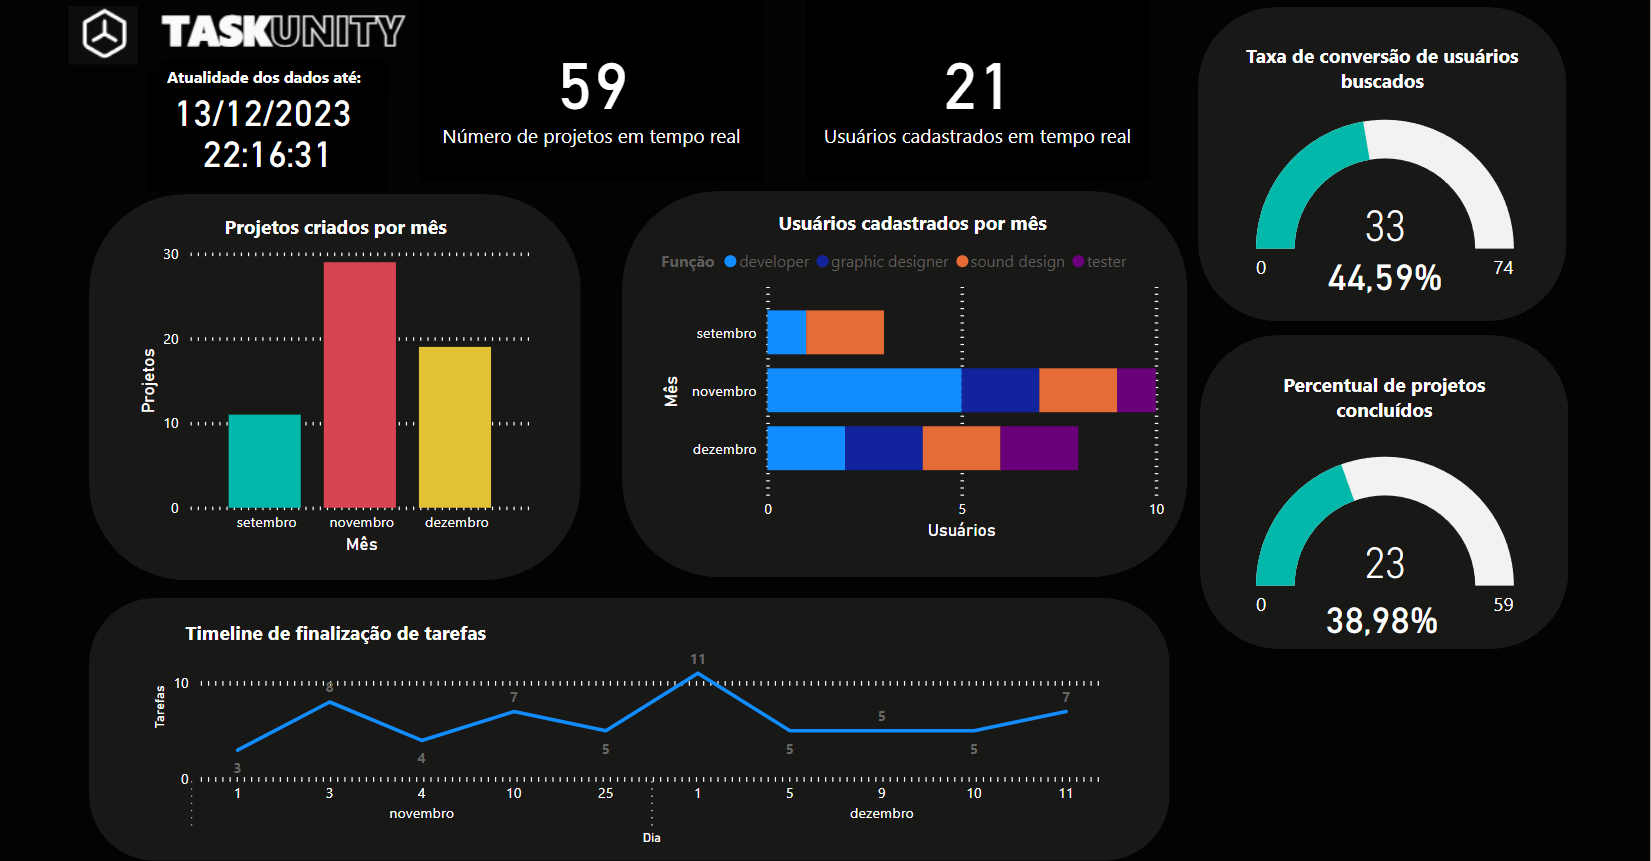

The dashboard page shown, as its layout file describes it:
{"tool":"powerbi","page":{"name":"Página 1","canvas":[1280,720],"ordinal":0},"visuals":[{"type":"shape","box":[952.2,5.8,308.3,262.6],"z":0},{"type":"image","box":[0,0,73.9,59.3],"z":1000},{"type":"image","box":[73.9,0,227.6,50.6],"z":2000},{"type":"gauge","fields":{"Y":["CountNonNull(team users.members_id)"],"MaxValue":["Max(team users.searches)"]},"box":[996,78.8,225.7,181.9],"z":3000},{"type":"textbox","box":[982.4,31.1,248,55.4],"z":4000},{"type":"card","fields":{"Values":["CountNonNull(projects.id)"]},"box":[301.5,0,286.9,150.8],"z":5000},{"type":"card","fields":{"Values":["CountNonNull(users.id)"]},"box":[624.4,0,286.9,150.8],"z":6000},{"type":"shape","box":[25.3,162.4,411.4,322.9],"z":7000},{"type":"columnChart","fields":{"Y":["Count(projects.id)"],"Category":["projects.start_date.Variation.Hierarquia de datas.Mês"]},"box":[61.3,198.4,340.4,269.4],"z":8000},{"type":"shape","box":[954.4,280.4,308.3,262.6],"z":9000},{"type":"gauge","fields":{"MaxValue":["Count(projects.id)"],"Y":["Consulta1.Salario Area Comercial"]},"box":[996.3,360.2,225.7,181.9],"z":10000},{"type":"textbox","box":[984.6,305.7,248,55.4],"z":11000},{"type":"shape","box":[470.8,159.5,472.7,322.9],"z":12000},{"type":"card","fields":{"Values":["Max(Consulta1.Column1)"]},"box":[73.9,59.3,201.3,100.2],"z":13000},{"type":"textbox","box":[85.6,50.6,189.7,28.2],"z":14000},{"type":"card","fields":{"Values":["Consulta1.Medida"]},"box":[1017.4,170.2,181.9,117.7],"z":15000},{"type":"card","fields":{"Values":["Consulta1.PercentualProjects"]},"box":[1015.4,457.1,181.9,117.7],"z":16000},{"type":"barChart","fields":{"Category":["users.start_date.Variation.Hierarquia de datas.Mês"],"Y":["CountNonNull(users.id)"],"Series":["users.function"]},"box":[498,198.4,430.9,258.7],"z":17000},{"type":"textbox","box":[549.5,170.2,328.8,55.4],"z":18000},{"type":"textbox","box":[67.1,174.1,328.8,55.4],"z":19000},{"type":"shape","box":[25.3,499.9,903.6,219.8],"z":20000},{"type":"lineChart","fields":{"Category":["tasks.date_if_completed.Variation.Hierarquia de datas.Mês","tasks.date_if_completed.Variation.Hierarquia de datas.Dia"],"Y":["Consulta1.Tasks"]},"box":[73.9,516.5,804.4,194.5],"z":20001},{"type":"textbox","box":[67.1,513.6,328.8,55.4],"z":20002}]}

Visuals, with their boxes on the page's 1280x720 design canvas (x1, y1, x2, y2). These are canvas units, not pixel positions in the 1651x861 screenshot, which may show the page scaled, cropped or inside an application window:
shape: 952,6,1260,268
image: 0,0,74,59
image: 74,0,302,51
gauge - CountNonNull(team users.members_id) x Max(team users.searches): 996,79,1222,261
textbox: 982,31,1230,86
card - CountNonNull(projects.id): 302,0,588,151
card - CountNonNull(users.id): 624,0,911,151
shape: 25,162,437,485
columnChart - Count(projects.id) x projects.start_date.Variation.Hierarquia de datas.Mês: 61,198,402,468
shape: 954,280,1263,543
gauge - Count(projects.id) x Consulta1.Salario Area Comercial: 996,360,1222,542
textbox: 985,306,1233,361
shape: 471,160,944,482
card - Max(Consulta1.Column1): 74,59,275,160
textbox: 86,51,275,79
card - Consulta1.Medida: 1017,170,1199,288
card - Consulta1.PercentualProjects: 1015,457,1197,575
barChart - users.start_date.Variation.Hierarquia de datas.Mês x CountNonNull(users.id): 498,198,929,457
textbox: 550,170,878,226
textbox: 67,174,396,230
shape: 25,500,929,720
lineChart - tasks.date_if_completed.Variation.Hierarquia de datas.Mês x tasks.date_if_completed.Variation.Hierarquia de datas.Dia: 74,516,878,711
textbox: 67,514,396,569
